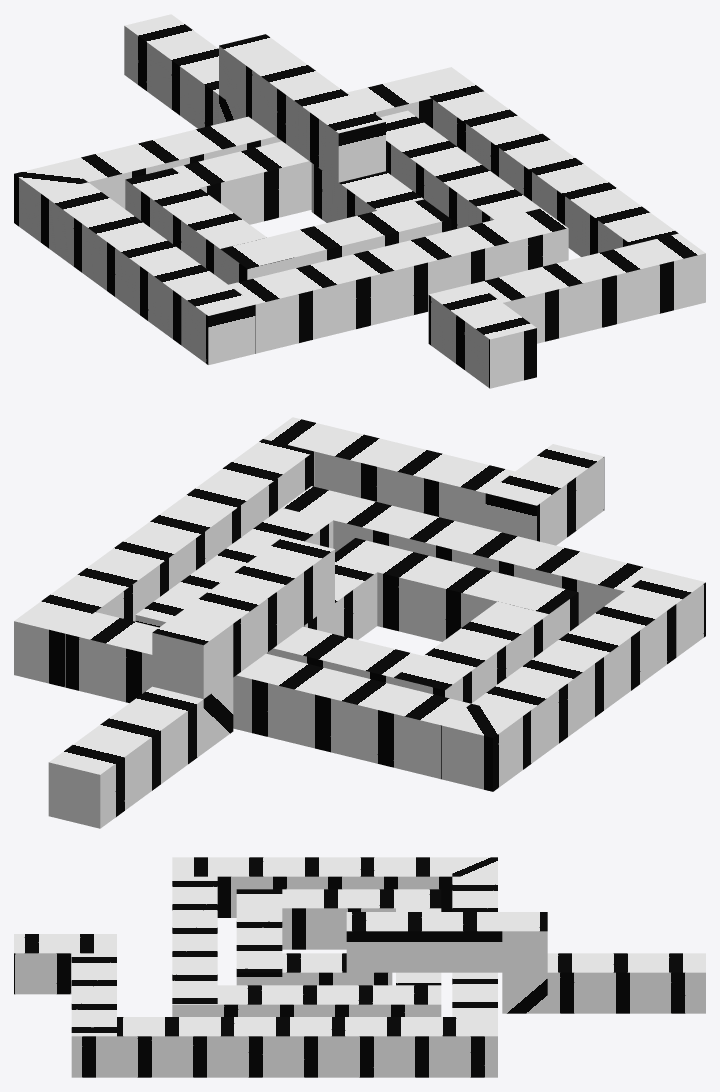
File: rope.fbx
3 views of the same model, one above another, from view 1: azimuth 30°, elevation 25°; view 2: azimuth 150°, elevation 25°; view 3: azimuth 270°, elevation 25° (orthographic). The views are drawn at different scales.
Visible parts, largest first — view 1: rope_main; view 2: rope_main; view 3: rope_main.
Boxes of the visible parts, <box> form: rope_main: <box>14,14,705,388</box>; rope_main: <box>14,417,705,828</box>; rope_main: <box>14,857,705,1077</box>.
Bounding box in the file's own units: 93.03 × 20 × 152.
